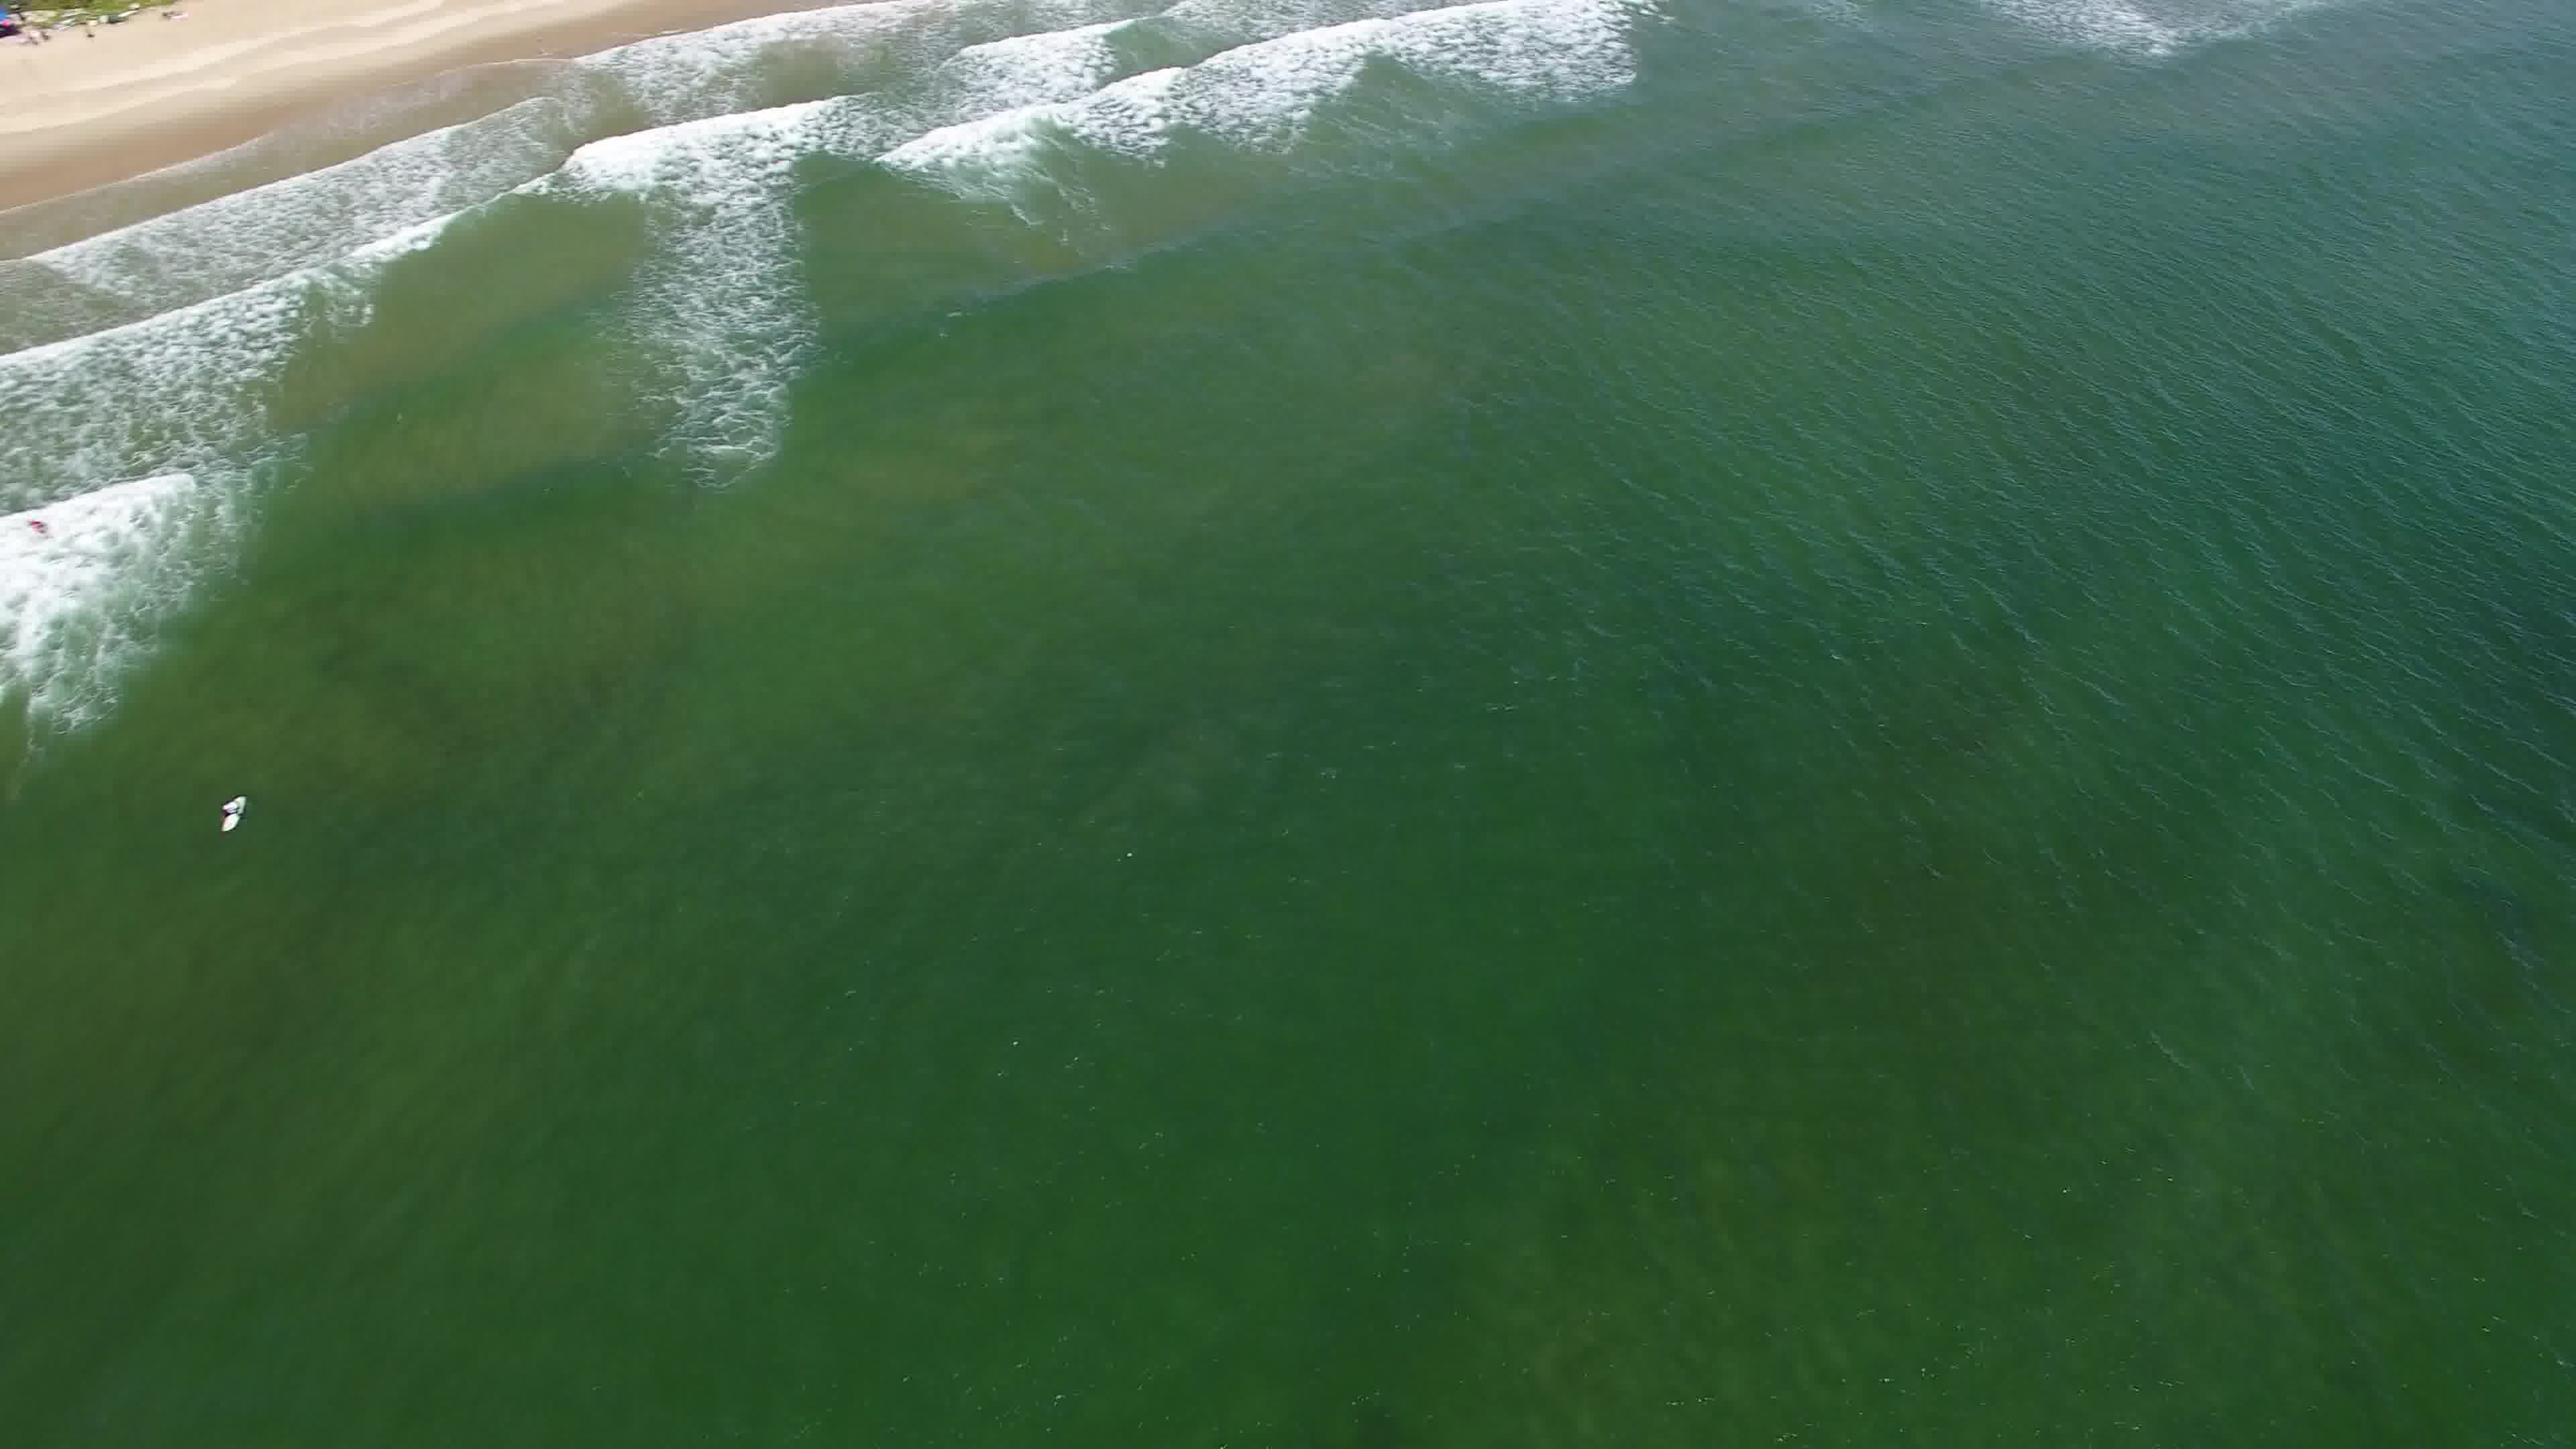surfer: (214, 780, 255, 840)
